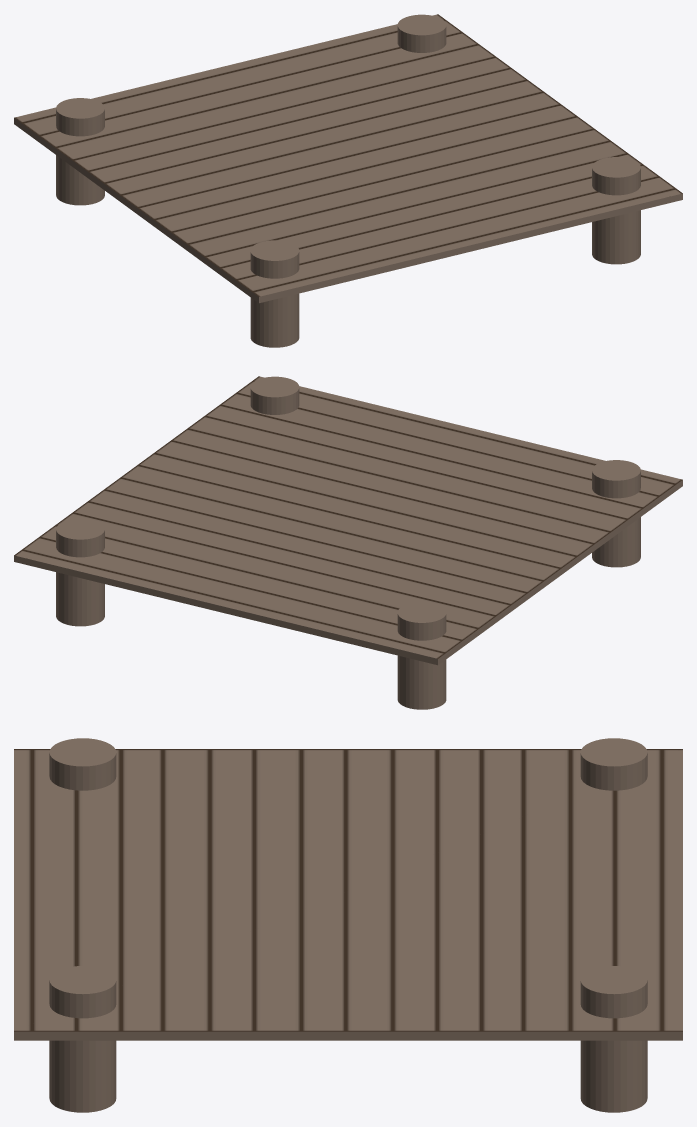
The model's file is WoodDeck.fbx.
The picture shows the model from 3 angles, top to bottom: view 1: azimuth 30°, elevation 25°; view 2: azimuth 150°, elevation 25°; view 3: azimuth 270°, elevation 25°; orthographic projection. The views are drawn at different scales.
Visible parts, largest first — view 1: 큐브, 실린더; view 2: 큐브, 실린더; view 3: 큐브, 실린더.
Part boxes in pixels (<box>): 큐브: <box>14,14,682,303</box>; 실린더: <box>56,14,640,347</box>; 큐브: <box>14,376,682,665</box>; 실린더: <box>56,376,640,709</box>; 큐브: <box>14,749,682,1040</box>; 실린더: <box>49,738,647,1112</box>.
Size of the model in its own units: 960 by 188 by 960.
